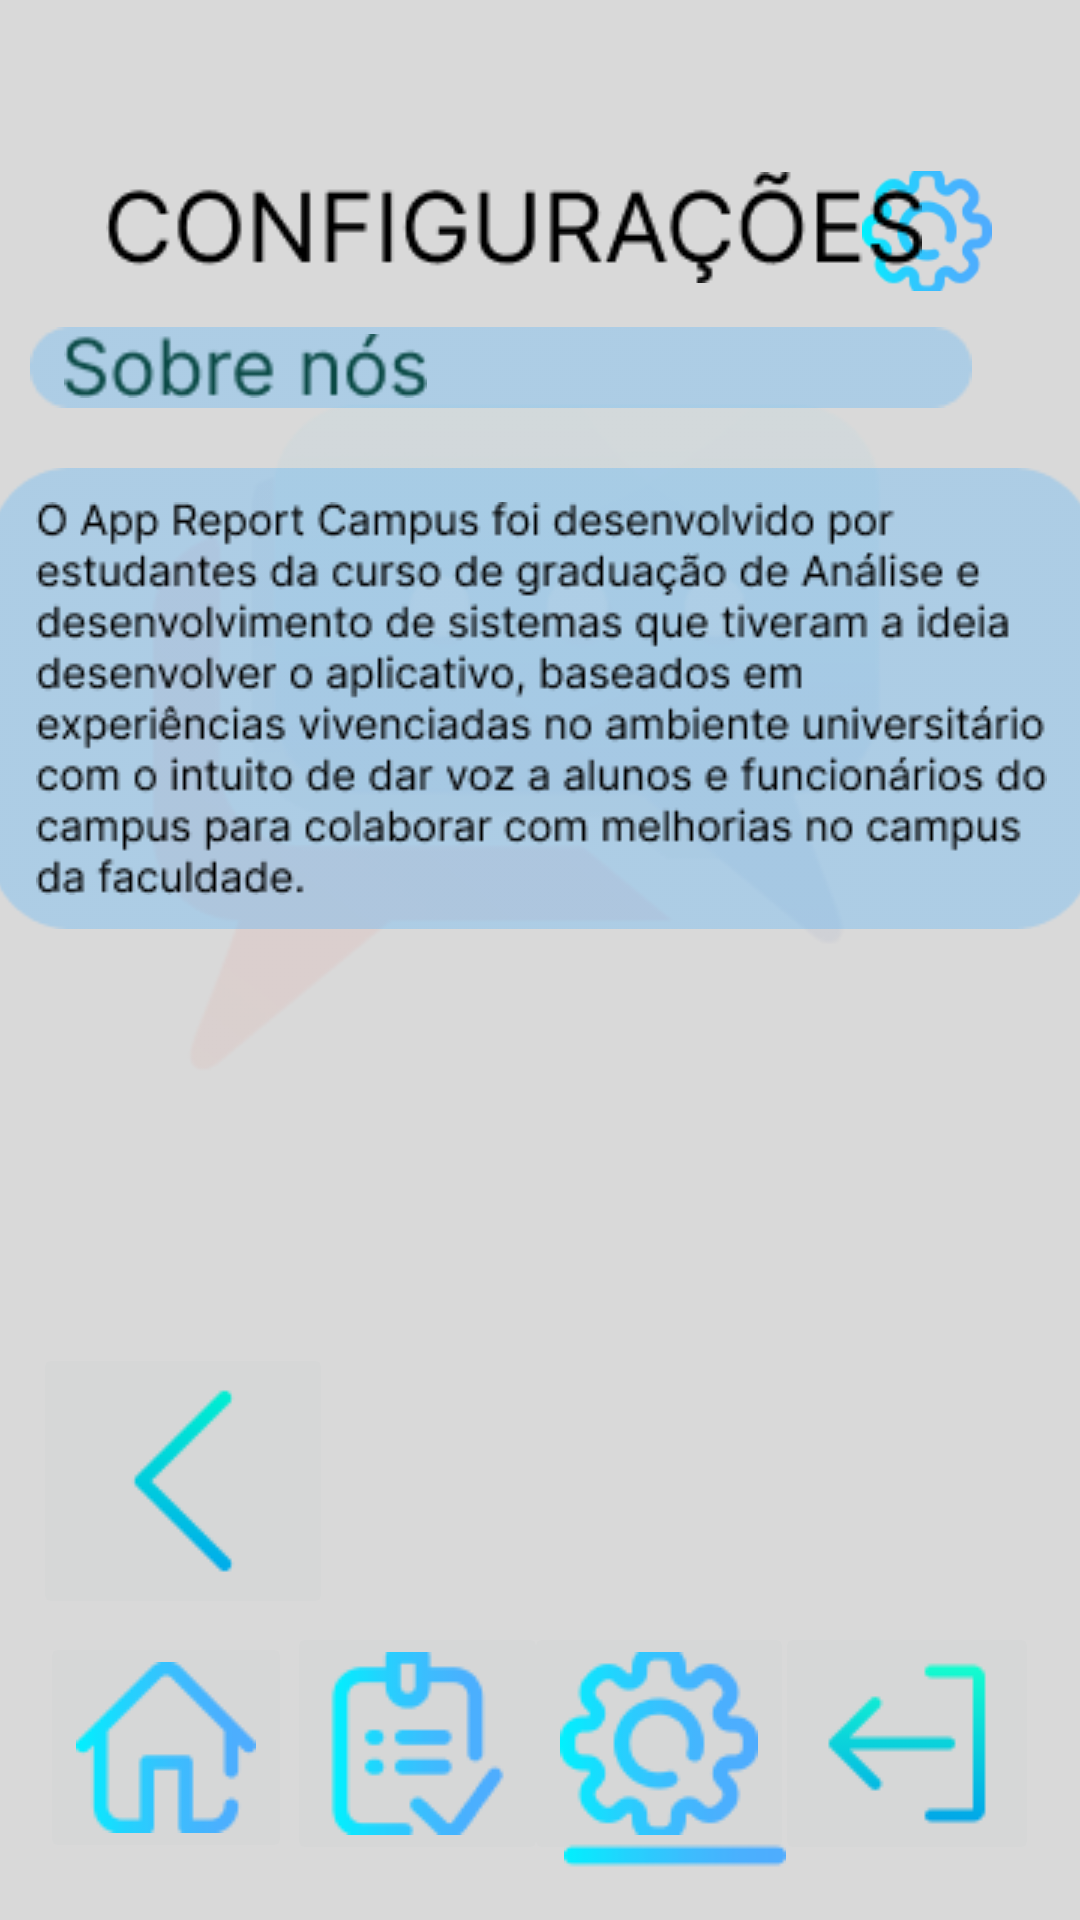

Icon bounding boxes for this 1080*1920 phone screenshot, format (x1, y1, x2, y2):
iconehome: (76, 1662, 256, 1833)
iconelist: (331, 1652, 504, 1835)
iconesair: (828, 1663, 986, 1824)
voltar: (134, 1390, 233, 1572)
